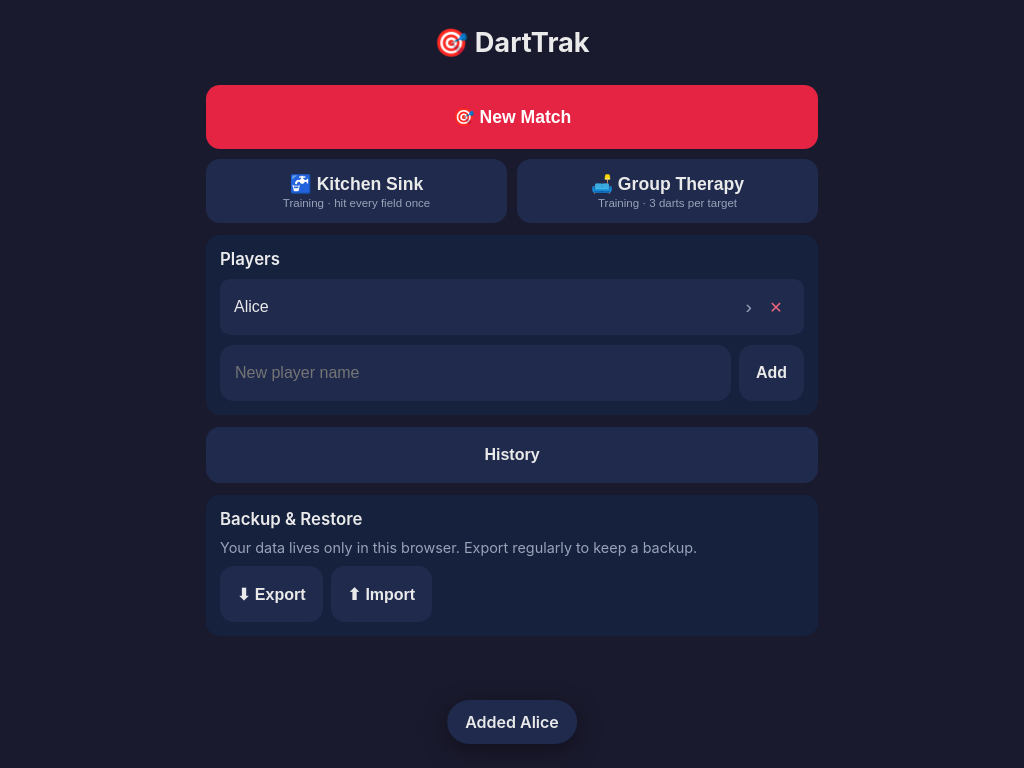
Scenario: screens render without crashing › Home delete asks for confirmation (with an export option) before removing
This screenshot has width=1024, height=768.
Click the button named "Delete Alice" at point(776, 307), box [756,287,796,327]
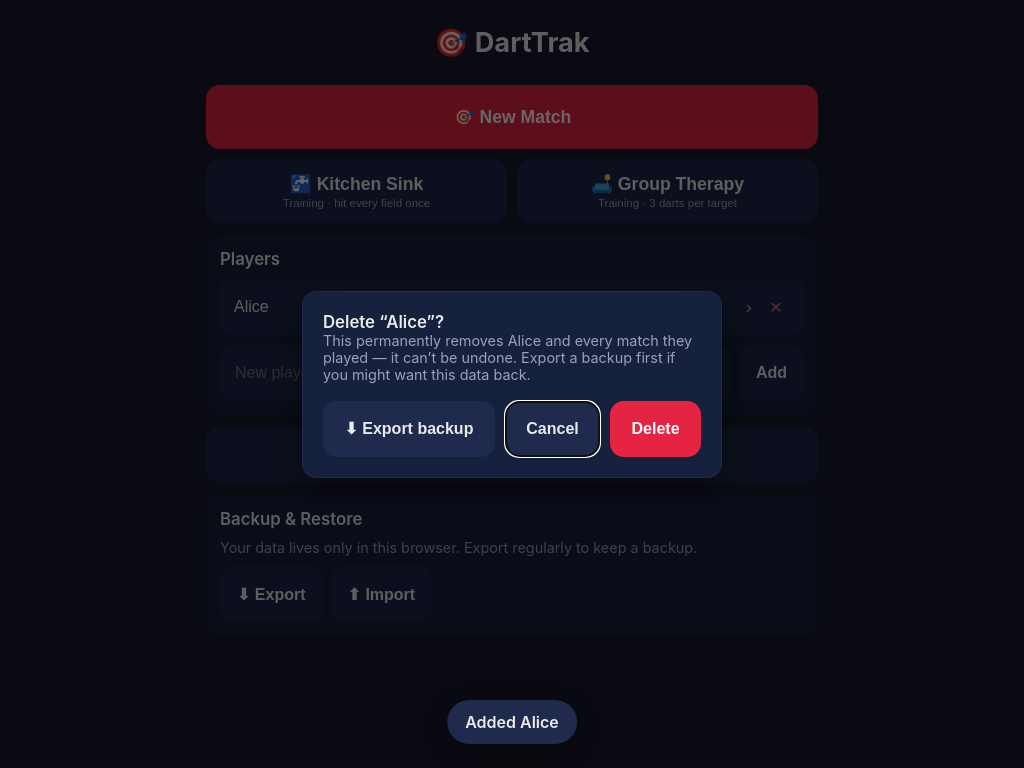
Expected: the button with aria-label "Open Alice's profile" is shown, [234,288,756,326]
Now the button "⬇ Export backup" is shown, box [323,400,495,456]
// Confirming clears the player (and, via cascade, their matches).
Click the button "Delete" at point(656, 428), box [610,400,701,456]
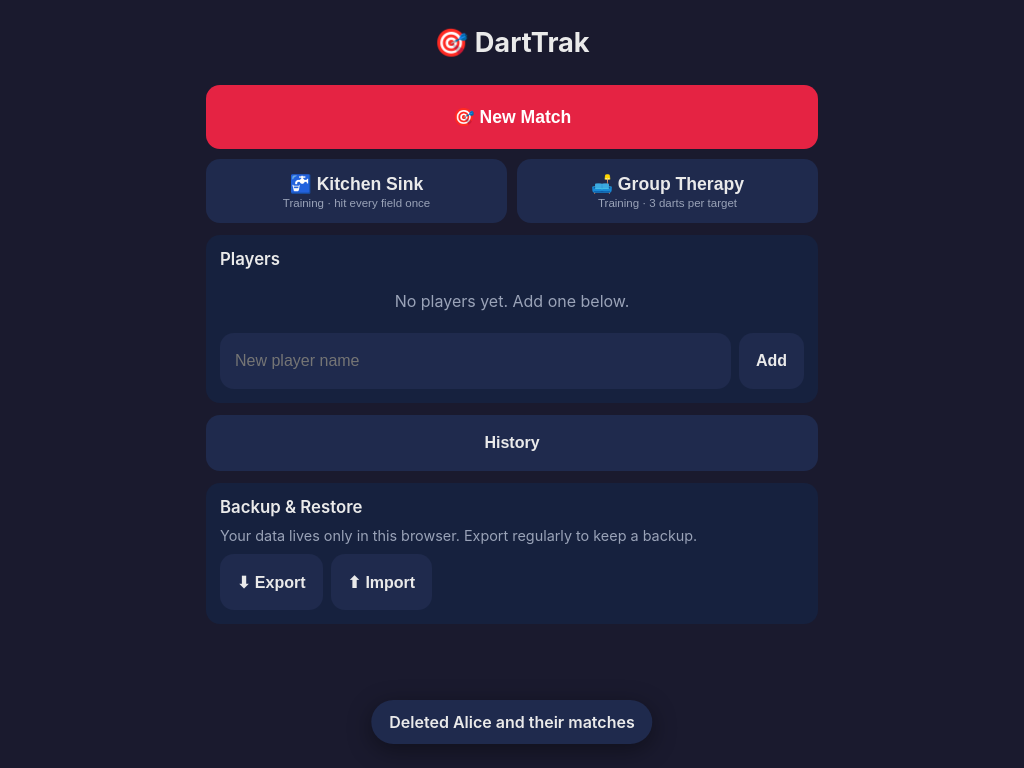
Now the list item "No players yet. Add one below." is shown, box [395,291,629,311]
